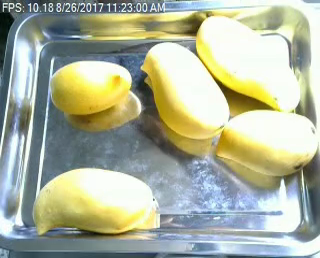Mango: (196, 13, 300, 111), (32, 168, 154, 242), (144, 41, 230, 138), (218, 110, 317, 177), (50, 60, 131, 115)
